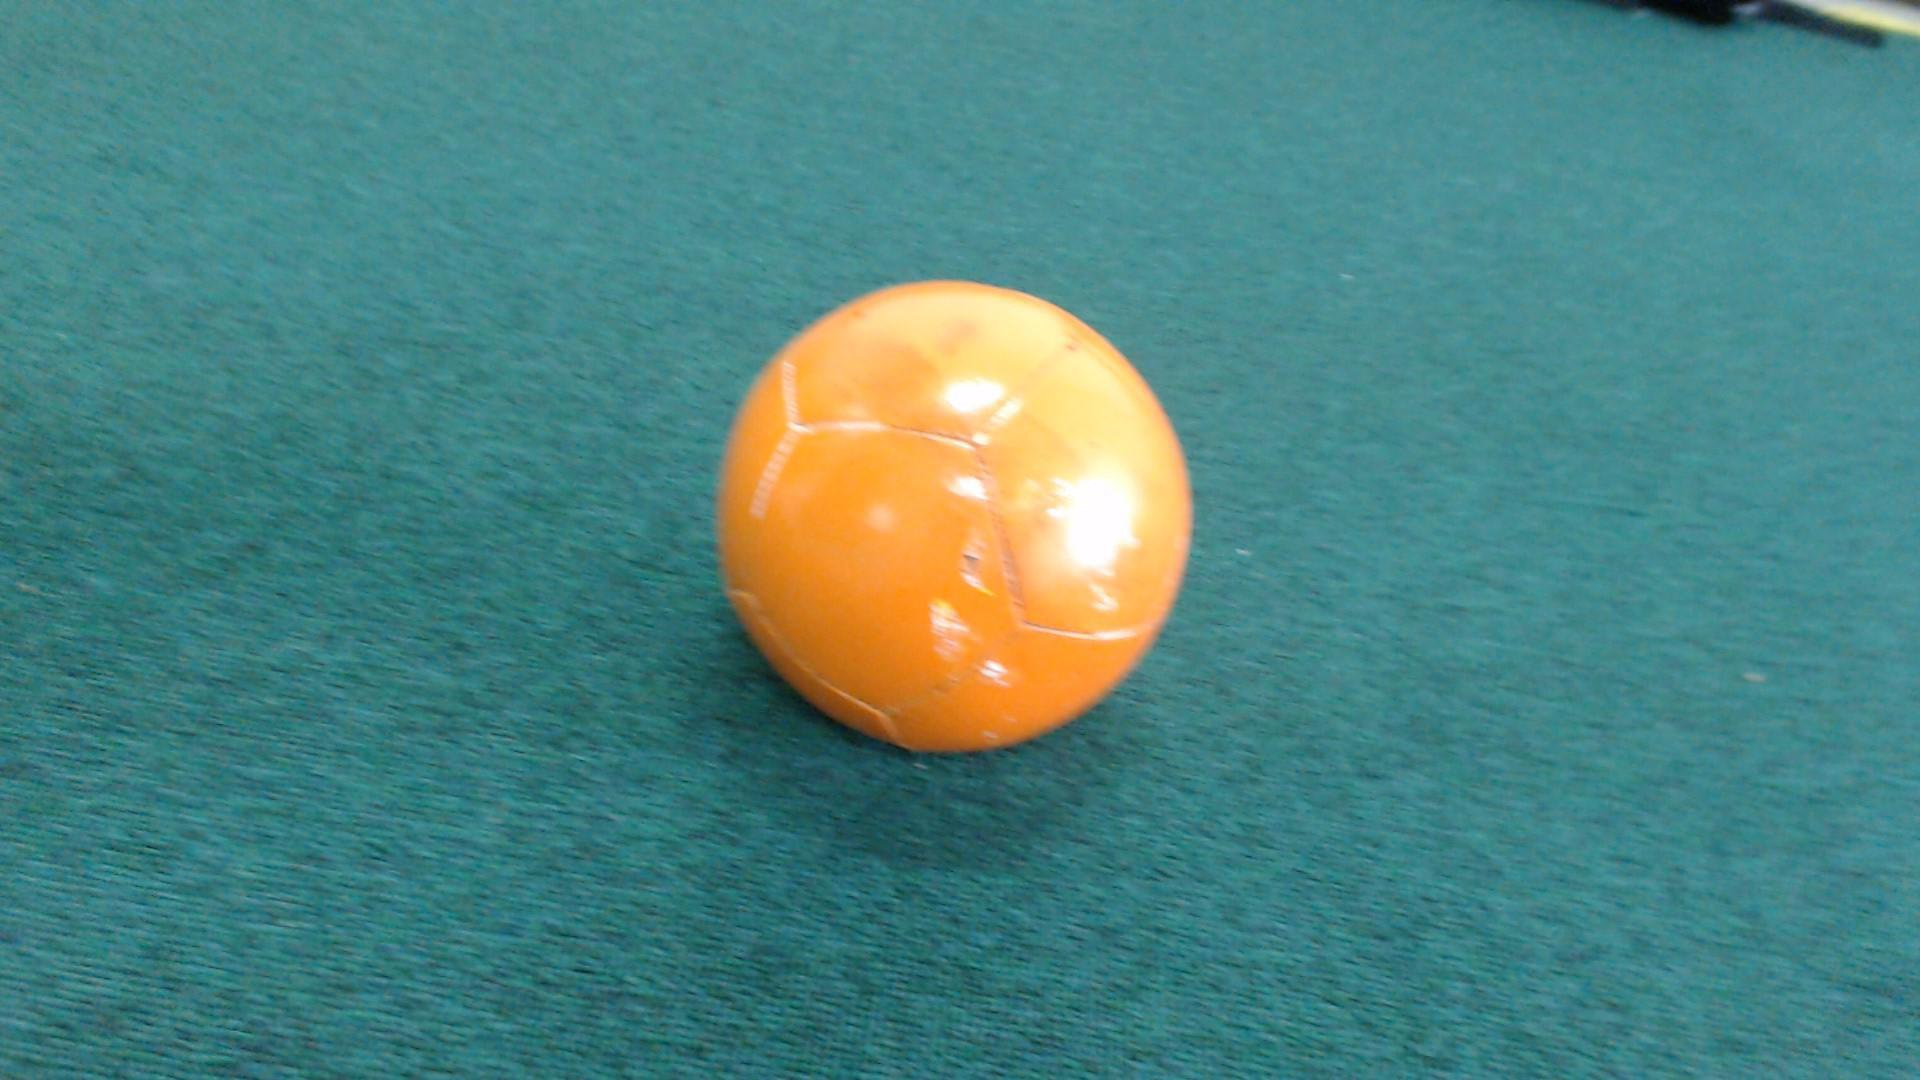bola: (680, 243, 1222, 770)
